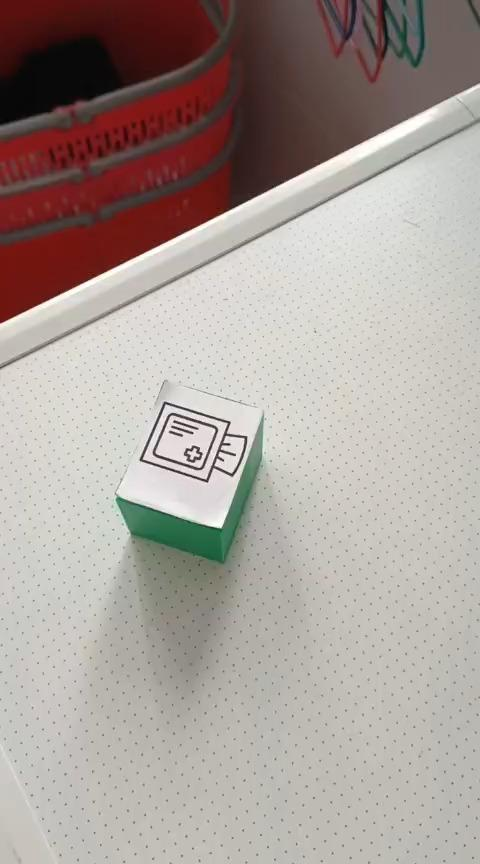Gauze: (113, 378, 264, 564)
